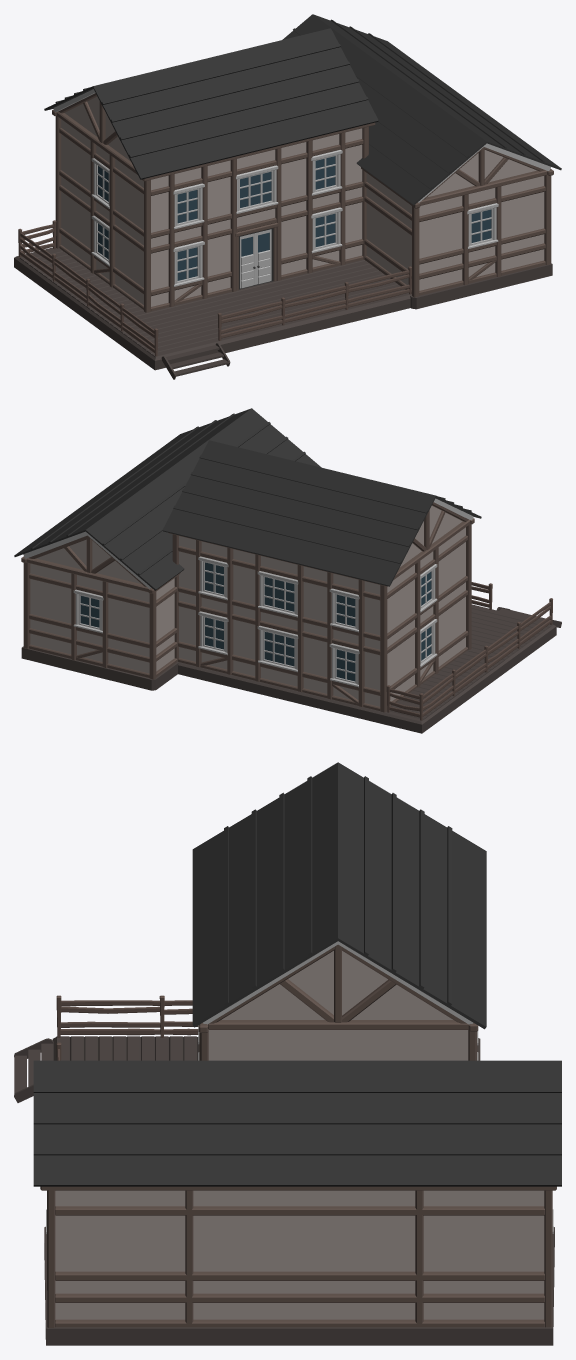
The model's file is house_13.glb.
3 renders of one model, top to bottom at view 1: azimuth 30°, elevation 25°; view 2: azimuth 150°, elevation 25°; view 3: azimuth 270°, elevation 25°, orthographic. The views are drawn at different scales.
Visible parts, largest first — view 1: house_13; view 2: house_13; view 3: house_13.
Part boxes in pixels (x1,y1,x2,y2): house_13: (14,14,561,379); house_13: (14,408,561,733); house_13: (14,762,561,1345).
Bounding box in the file's own units: 18.46 × 9.25 × 14.42.
Materials: 1 (1 with a texture image).
